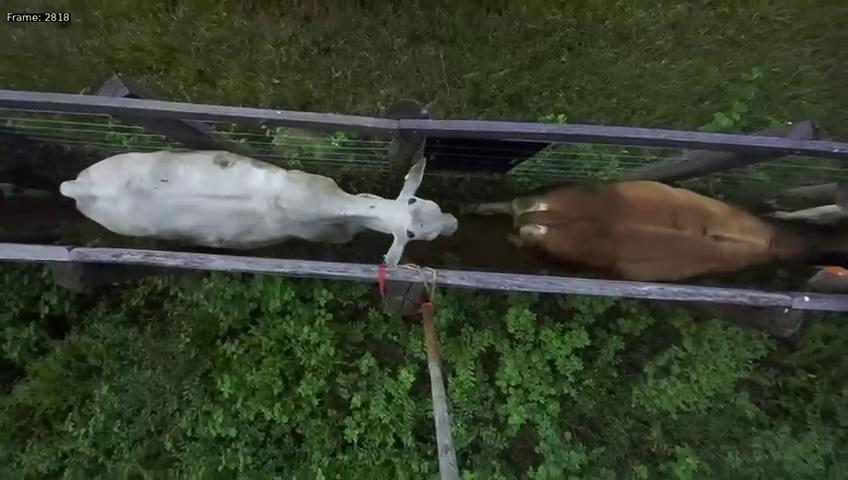cattle: (55, 135, 459, 266), (472, 171, 848, 297)
